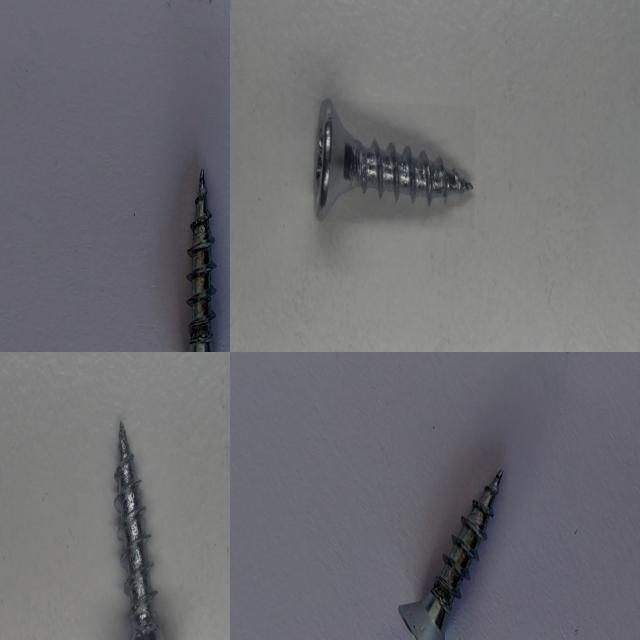Screw: (314, 98, 472, 219), (398, 469, 503, 640), (111, 416, 187, 640), (187, 168, 216, 352)
